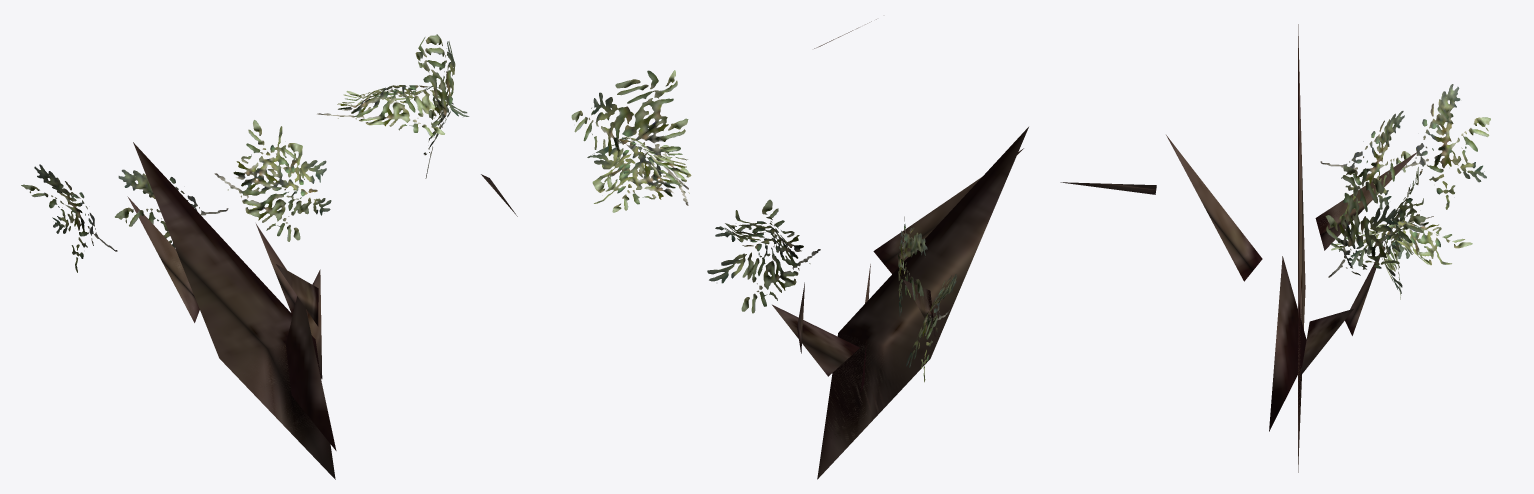
Rendered from tree_olive_far.gltf.
The picture shows the model from 3 angles, left to right: view 1: azimuth 30°, elevation 25°; view 2: azimuth 150°, elevation 25°; view 3: azimuth 270°, elevation 25°; orthographic projection. The views are drawn at different scales.
Visible parts, largest first — view 1: tree_olive_far; view 2: tree_olive_far; view 3: tree_olive_far.
Boxes of the visible parts, x1,y1,x2,y2 form: tree_olive_far: (21,34,517,479); tree_olive_far: (571,19,1028,479); tree_olive_far: (1060,24,1490,472).
Bounding box in the file's own units: 5.13 × 4.81 × 5.14.
2 materials, 2 textured.
